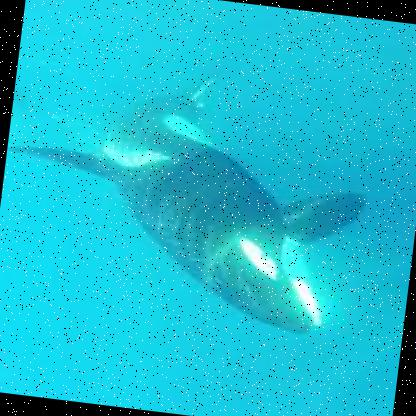killer_whale: (0, 45, 410, 346)
